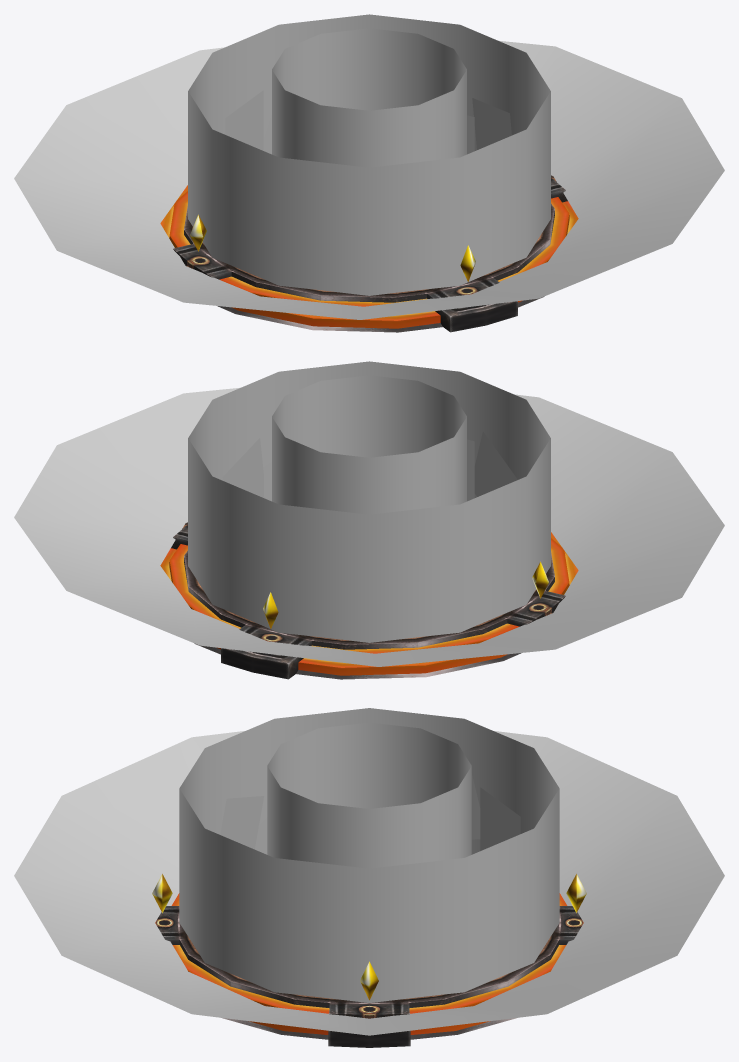
3 views of the same model, one above another, from view 1: azimuth 30°, elevation 25°; view 2: azimuth 150°, elevation 25°; view 3: azimuth 270°, elevation 25° (orthographic). The views are drawn at different scales.
Parts seen in each view (by area): view 1: object82; view 2: object82; view 3: object82.
Boxes of the visible parts, x1,y1,x2,y2 form: object82: (14,14,724,332); object82: (14,361,724,679); object82: (14,708,724,1047).
Bounding box in the file's own units: 322 × 91.27 × 303.
